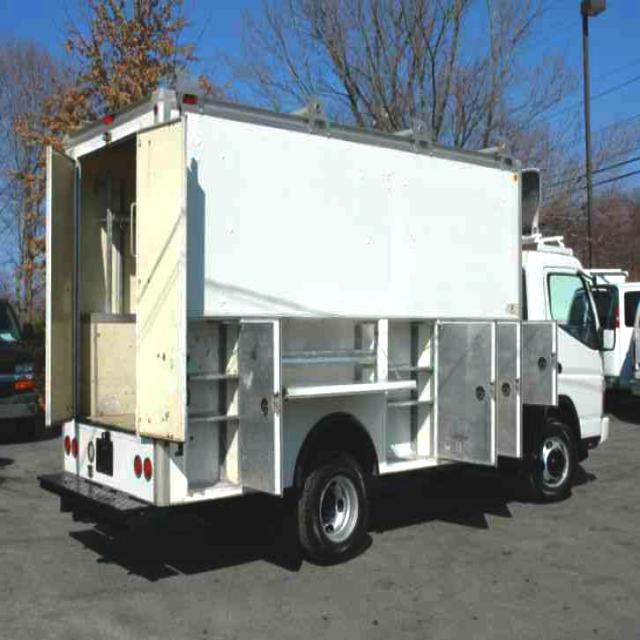truck: (41, 90, 619, 567)
